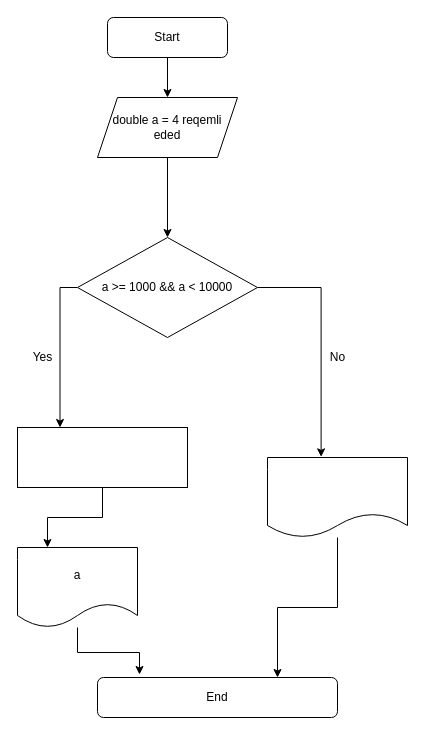
This 425x735 diagram has some shape labels left out. Each missing label, with the centre of its shape:
"a = a / 100 * 20; a = a / 100 * 10; a = a * a;" belongs at (x=102, y=457).
"bu eded 4 reqemli eded deyil" belongs at (x=337, y=497).
